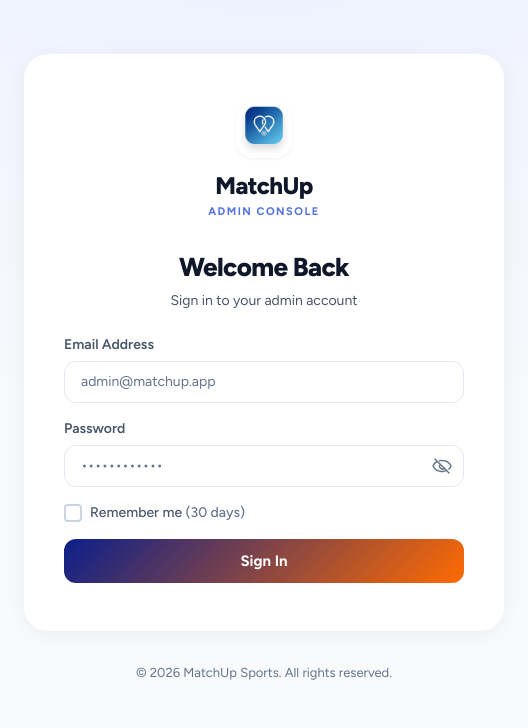
LoginPage › shows the AuthError message when sign-in is rejected
The image size is (528, 728).
In the field with placeholder "admin@matchup.app": (264, 382) [64,361,464,403], type "x@y.com"
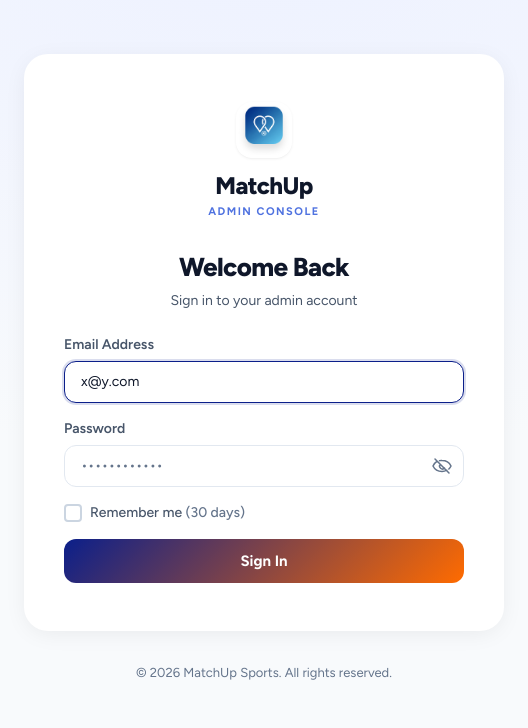
In the password field with placeholder "••••••••••••": (264, 466) [64,445,464,487], type "pw"
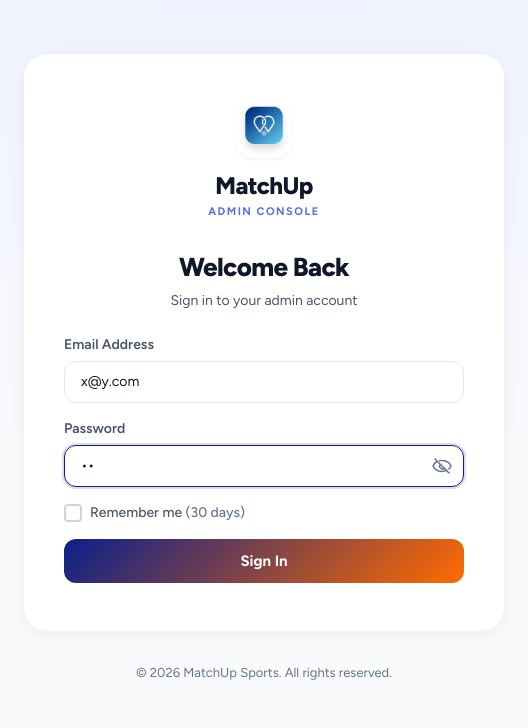
Click the button "Sign In": (264, 561) [64,539,464,583]
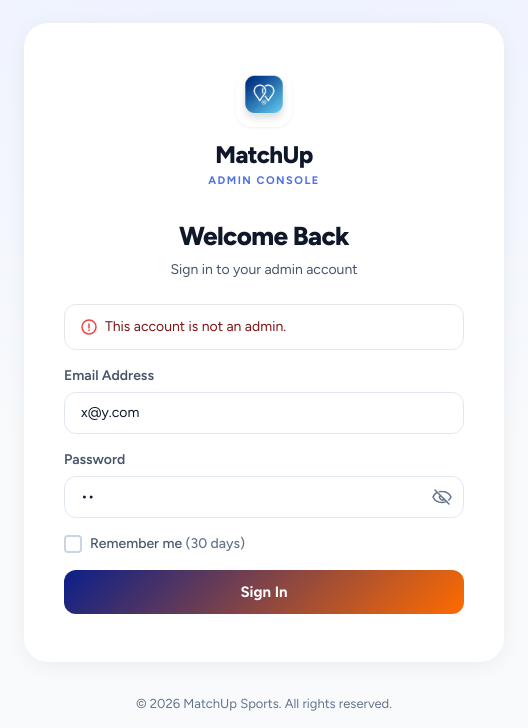
Expected: the text "This account is not an admin." is shown, [105,317,286,337]
